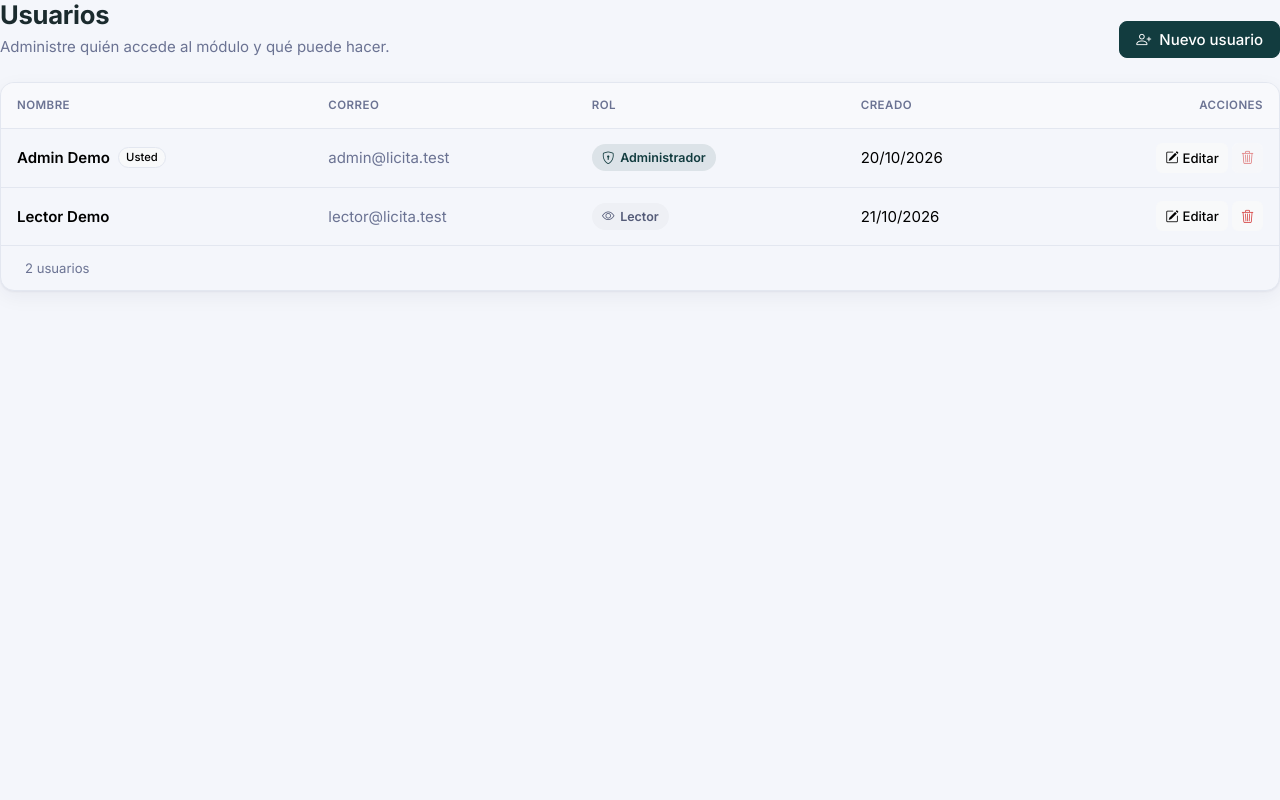
UsersView › deletes another user after confirming
The width and height of the screenshot is (1280, 800).
Click the button named "Eliminar lector@licita.test". click: (1247, 216)
box: [1232, 201, 1263, 231]
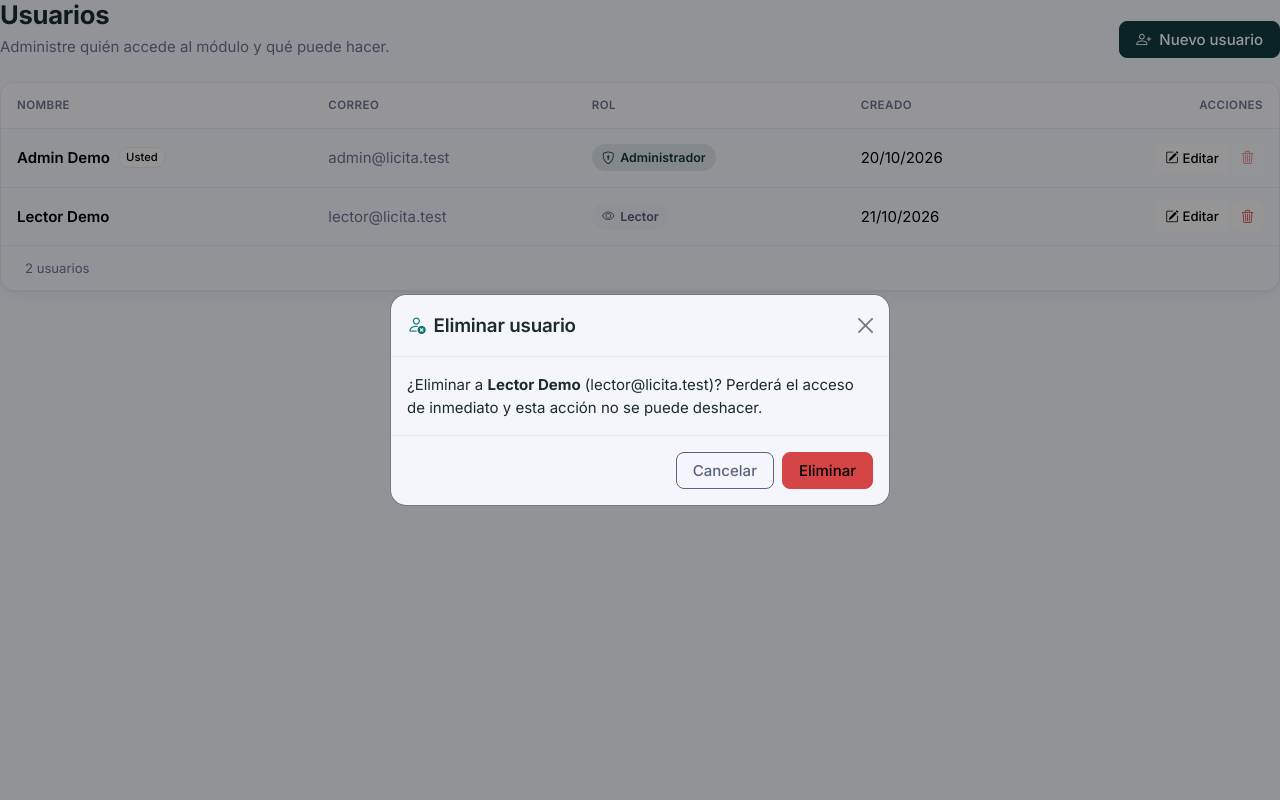
Check: the dialog shows "Lector Demo", box [488, 375, 581, 394]
Click the button with class "btn-danger". click: (827, 471)
box: [782, 452, 873, 490]
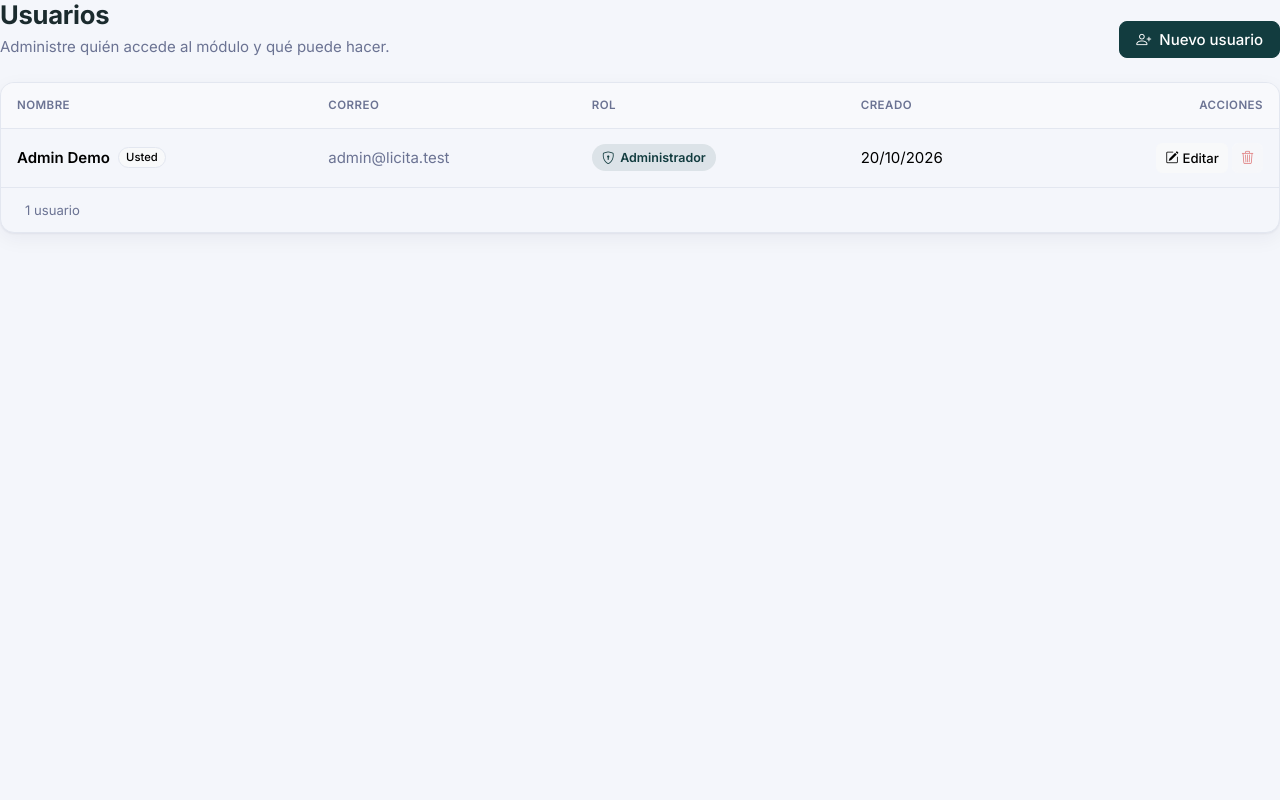
Check: the text "lector@licita.test" is gone
